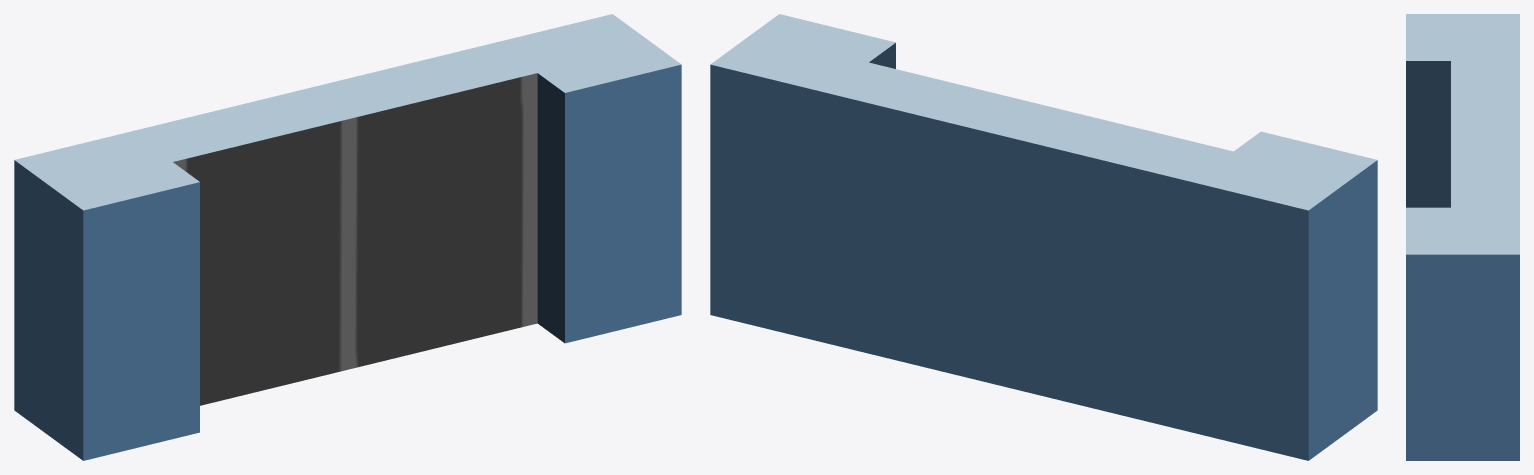
Rendered from office_window_small.fbx.
3 renders of one model, left to right at view 1: azimuth 30°, elevation 25°; view 2: azimuth 150°, elevation 25°; view 3: azimuth 270°, elevation 25°, orthographic. The views are drawn at different scales.
Parts seen in each view (by area): view 1: office_small_mesh; view 2: office_small_mesh; view 3: office_small_mesh.
Boxes of the visible parts, x1,y1,x2,y2 form: office_small_mesh: (14,14,681,460); office_small_mesh: (710,14,1377,460); office_small_mesh: (1406,14,1519,460).
Bounding box in the file's own units: 5 × 2 × 1.
1 material, 1 textured.
